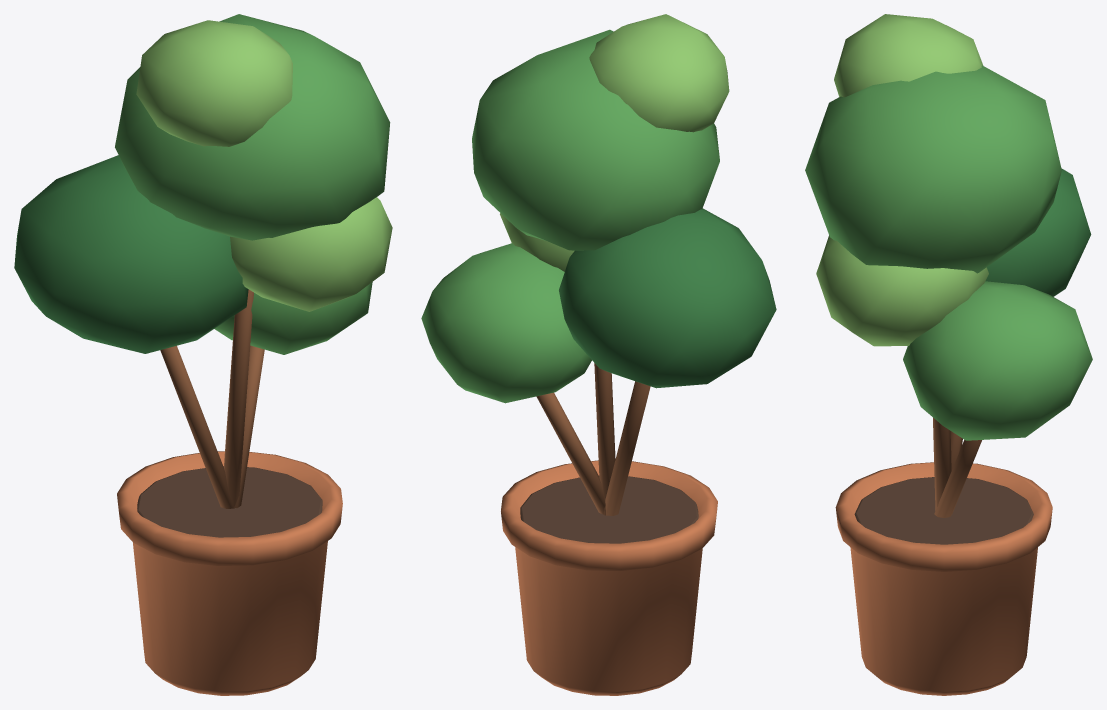
The model's file is plant_tall.glb.
3 views of the same model, side by side, from view 1: azimuth 30°, elevation 25°; view 2: azimuth 150°, elevation 25°; view 3: azimuth 270°, elevation 25° (orthographic). The views are drawn at different scales.
Visible parts, largest first — view 1: plant_tall; view 2: plant_tall; view 3: plant_tall.
Boxes of the visible parts, x1,y1,x2,y2 form: plant_tall: (14,14,392,695); plant_tall: (421,14,776,695); plant_tall: (805,14,1092,695).
Size of the model in its own units: 0.8519 by 1.6 by 0.663.
